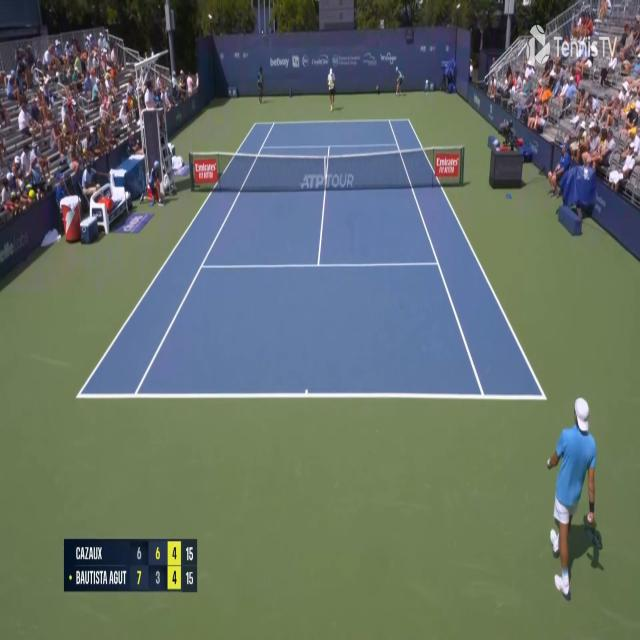tennis-player: (544, 390, 607, 600), (326, 66, 337, 112)
